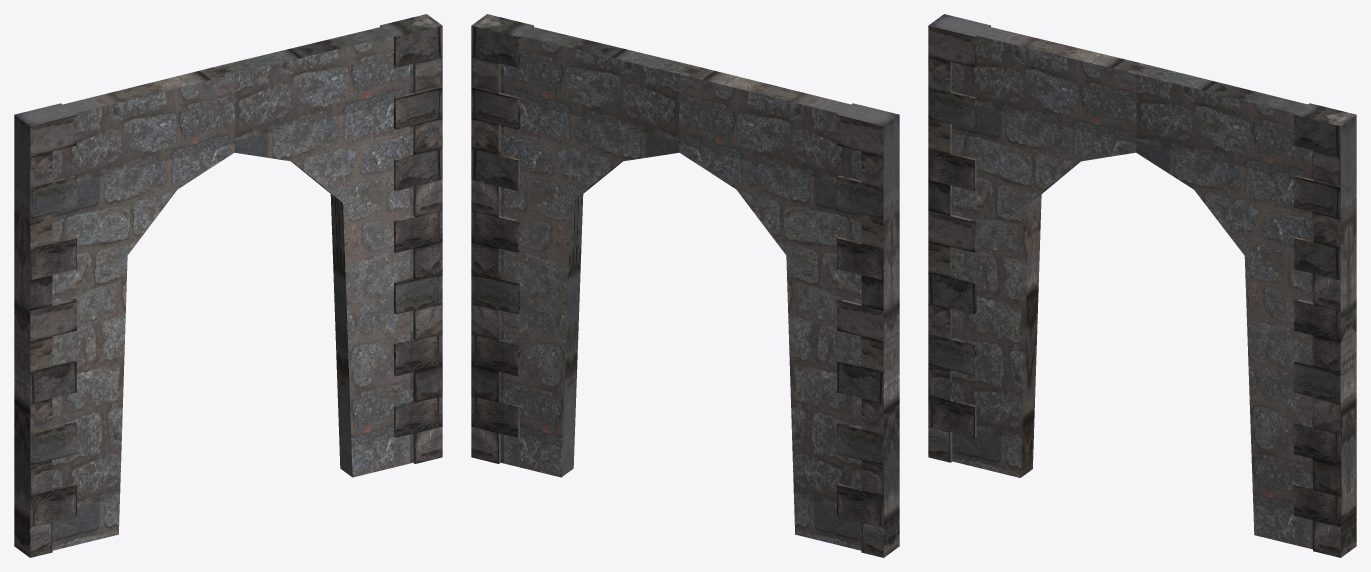
File: Doorway.fbx
3 views of the same model, side by side, from view 1: azimuth 30°, elevation 25°; view 2: azimuth 150°, elevation 25°; view 3: azimuth 330°, elevation 25° (orthographic).
Parts seen in each view (by area): view 1: Doorway; view 2: Doorway; view 3: Doorway.
Part boxes in pixels (box(x1,y1,x2,y2)): Doorway: box(14, 14, 442, 557); Doorway: box(471, 14, 899, 557); Doorway: box(928, 14, 1356, 557).
Size of the model in its own units: 600 by 601 by 40.12.
